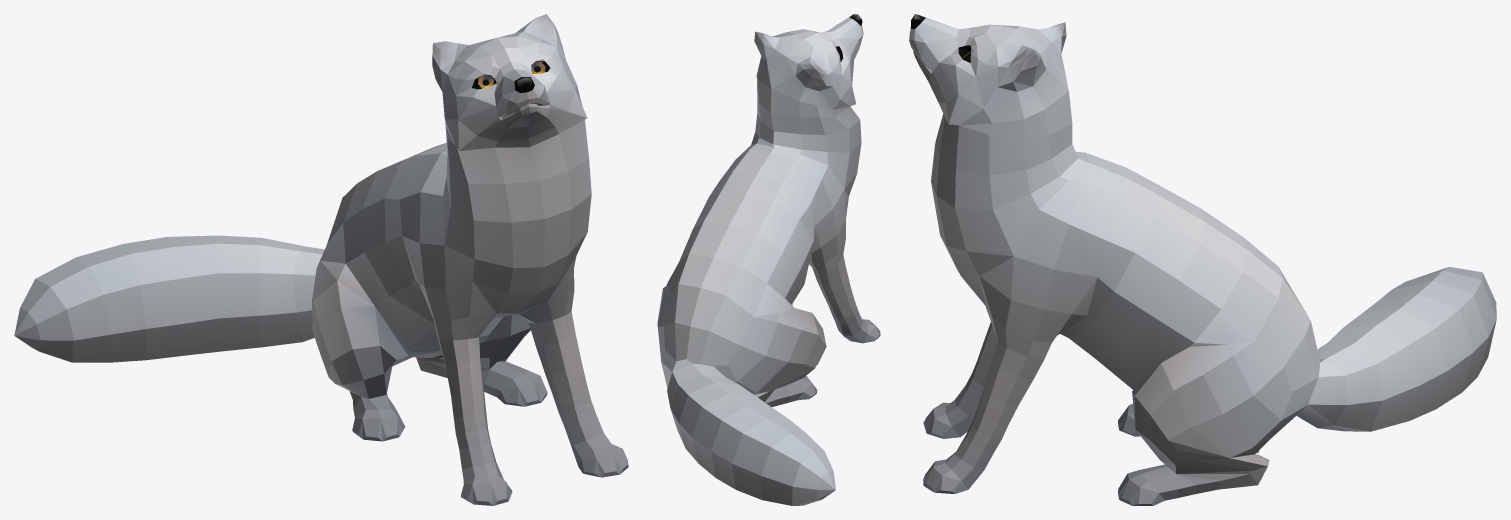
The model's file is arcticfoxposed.obj.
3 renders of one model, left to right at view 1: azimuth 30°, elevation 25°; view 2: azimuth 150°, elevation 25°; view 3: azimuth 270°, elevation 25°, orthographic. The views are drawn at different scales.
Parts seen in each view (by area): view 1: ArcticFox; view 2: ArcticFox; view 3: ArcticFox.
Boxes of the visible parts, left/top/right/bottom form: ArcticFox: left=14, top=14, right=628, bottom=505; ArcticFox: left=657, top=14, right=880, bottom=505; ArcticFox: left=909, top=14, right=1496, bottom=505.
Size of the model in its own units: 5.29 by 5.86 by 7.15.
Materials: 1 (1 with a texture image).
